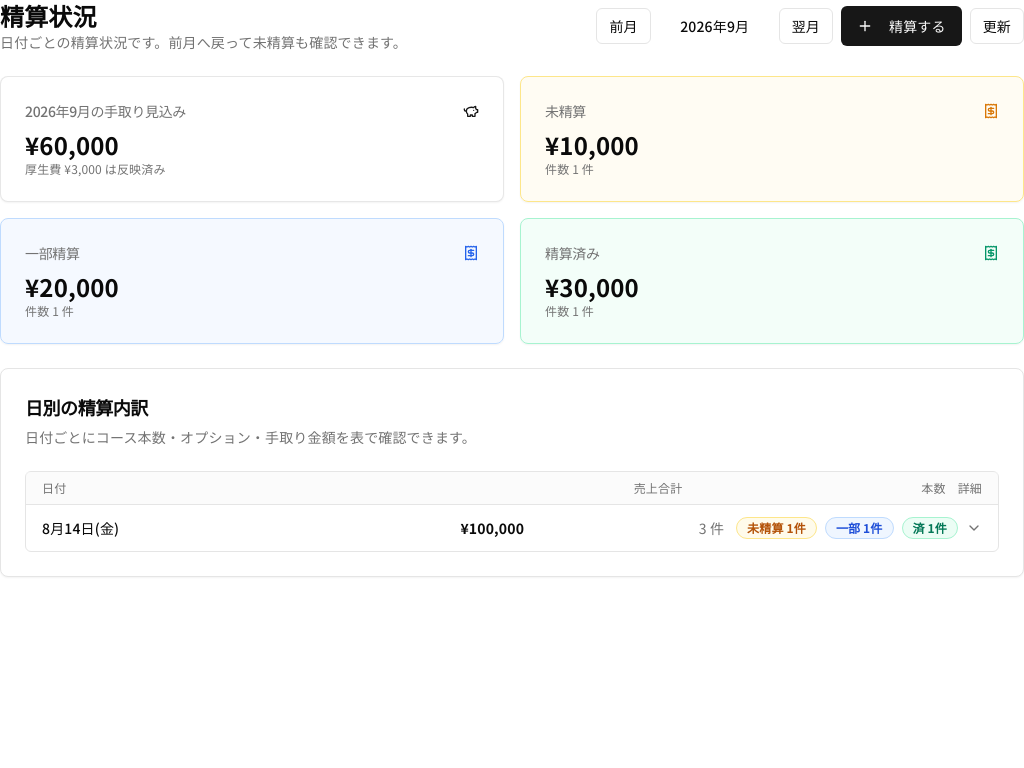
Test case: SettlementStatusTab › opens the settlement dialog from the status header with unpaid reservations selected
Click the button "精算する" at (901, 26), box [841,6,962,46]
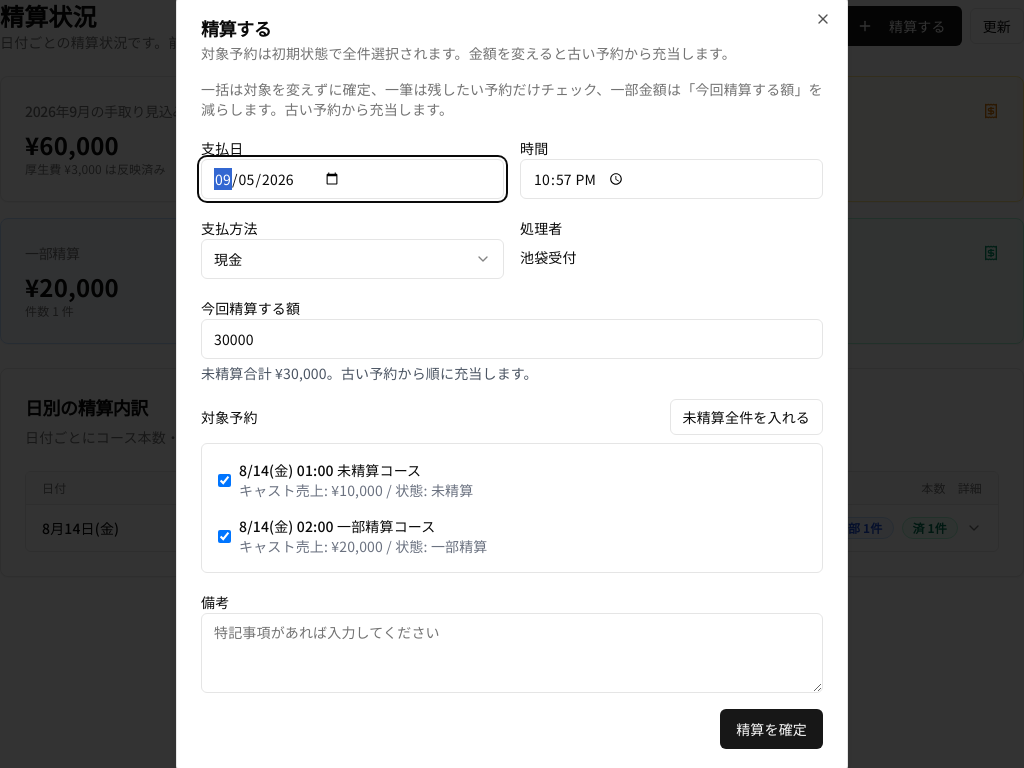
Check: the number field labelled "今回精算する額" holds "30000", box [201,319,823,359]
Check: the text "未精算コース" is shown, box [337,460,421,480]
Check: the text "一部精算コース" is shown, box [337,516,435,536]
